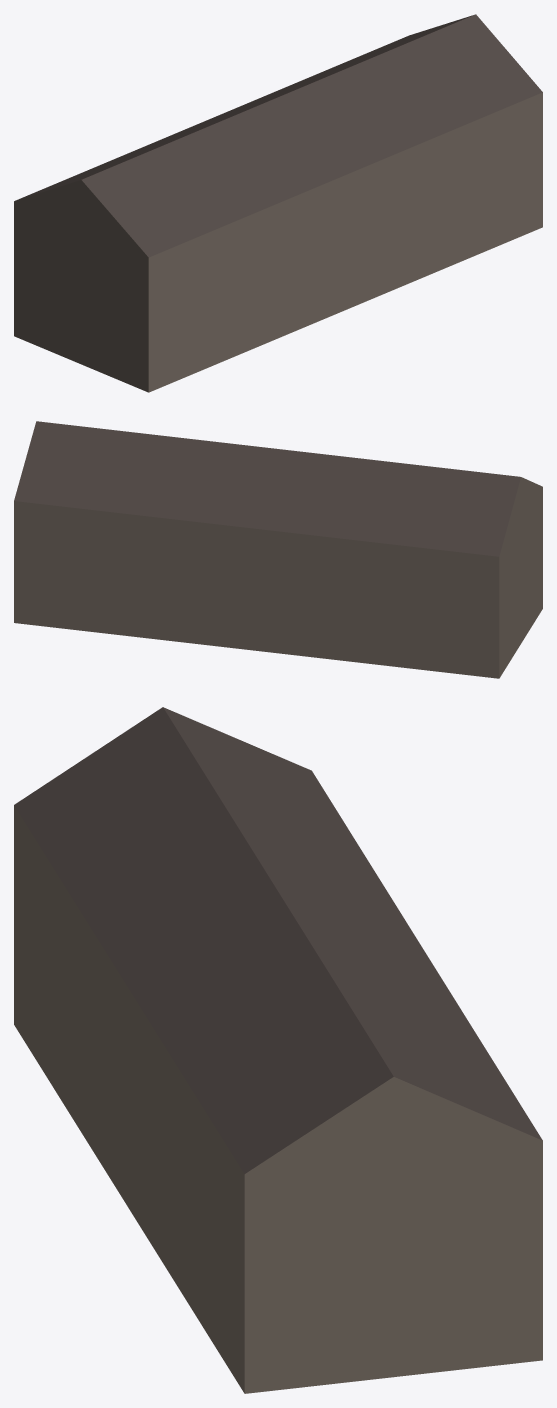
3 views of the same model, one above another, from view 1: azimuth 30°, elevation 25°; view 2: azimuth 150°, elevation 25°; view 3: azimuth 270°, elevation 25° (orthographic). The views are drawn at different scales.
Parts seen in each view (by area): view 1: HP-w1200785667; view 2: HP-w1200785667; view 3: HP-w1200785667.
Boxes of the visible parts, left/top/right/bottom form: HP-w1200785667: left=14, top=14, right=542, bottom=392; HP-w1200785667: left=14, top=421, right=542, bottom=678; HP-w1200785667: left=14, top=707, right=542, bottom=1393.
Bounding box in the file's own units: 23.64 × 8.21 × 13.09.
